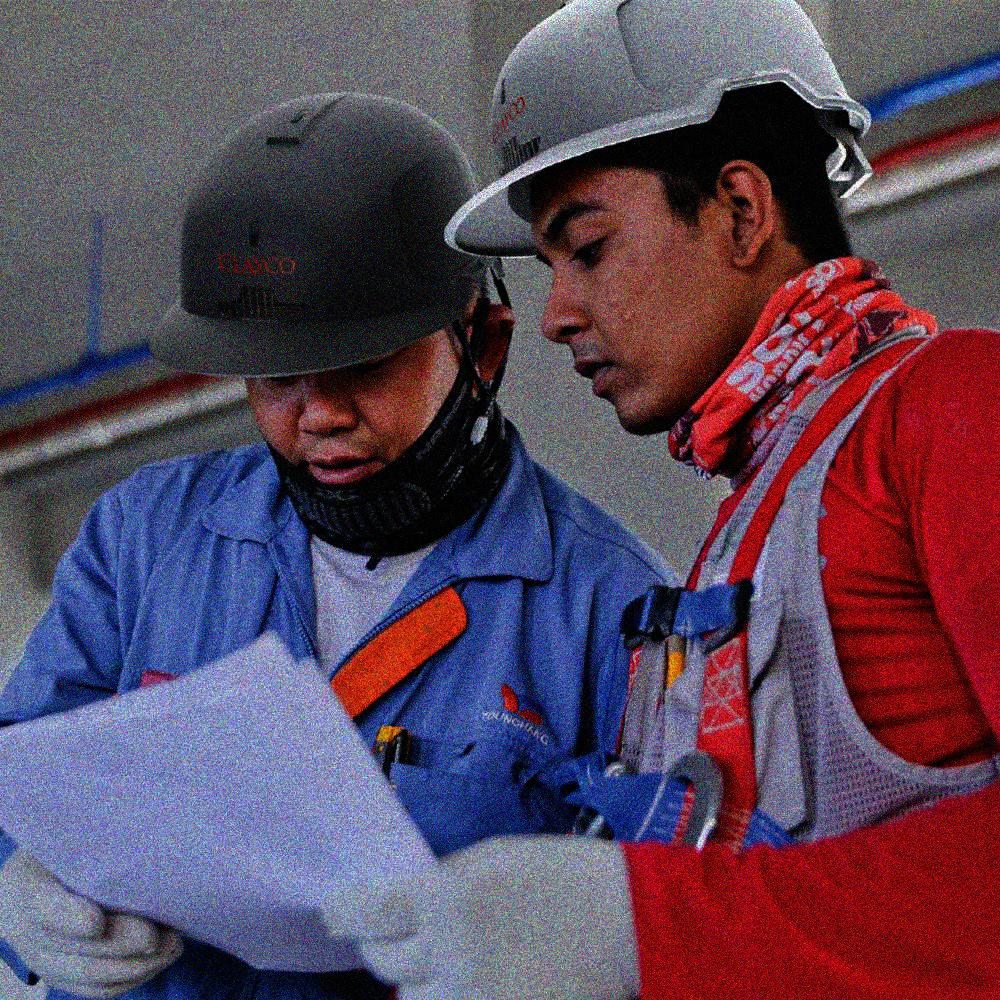helmet: (440, 1, 872, 429), (144, 85, 502, 505)
